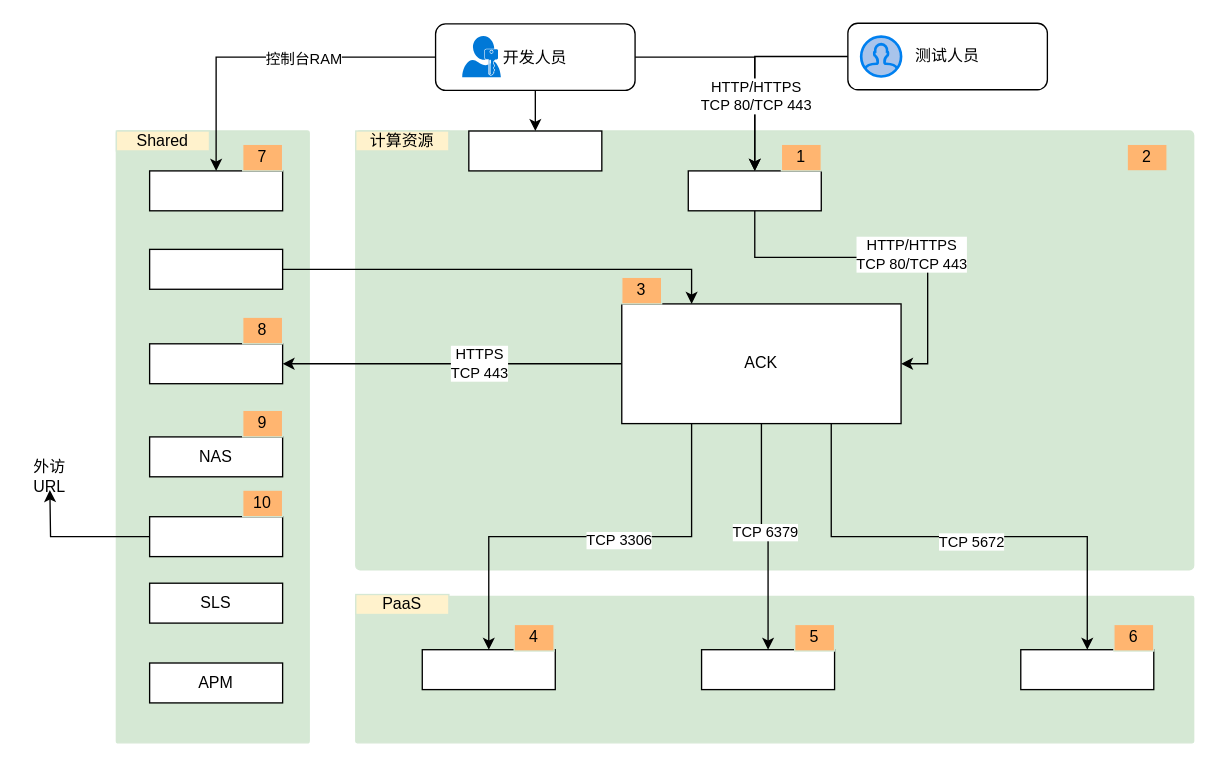
Image size: 1217x766. Some labels were removed from this diagram. Each missing label, with the centre of its shape:
"ACR" belongs at point 215,268.
"NAT" belongs at point 215,536.
"OSS" belongs at point 215,363.
"rabbitmq" belongs at point 1086,669.
"RDS" belongs at point 488,669.
"redis" belongs at point 767,669.
"SLB" belongs at point 754,190.
"VPN？" belongs at point 534,150.
"云效" belongs at point 215,190.
